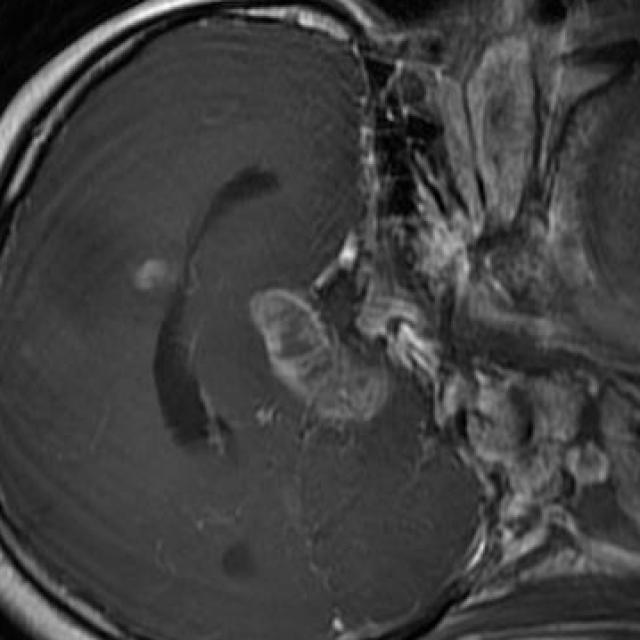glioma: (250, 289, 389, 423)
